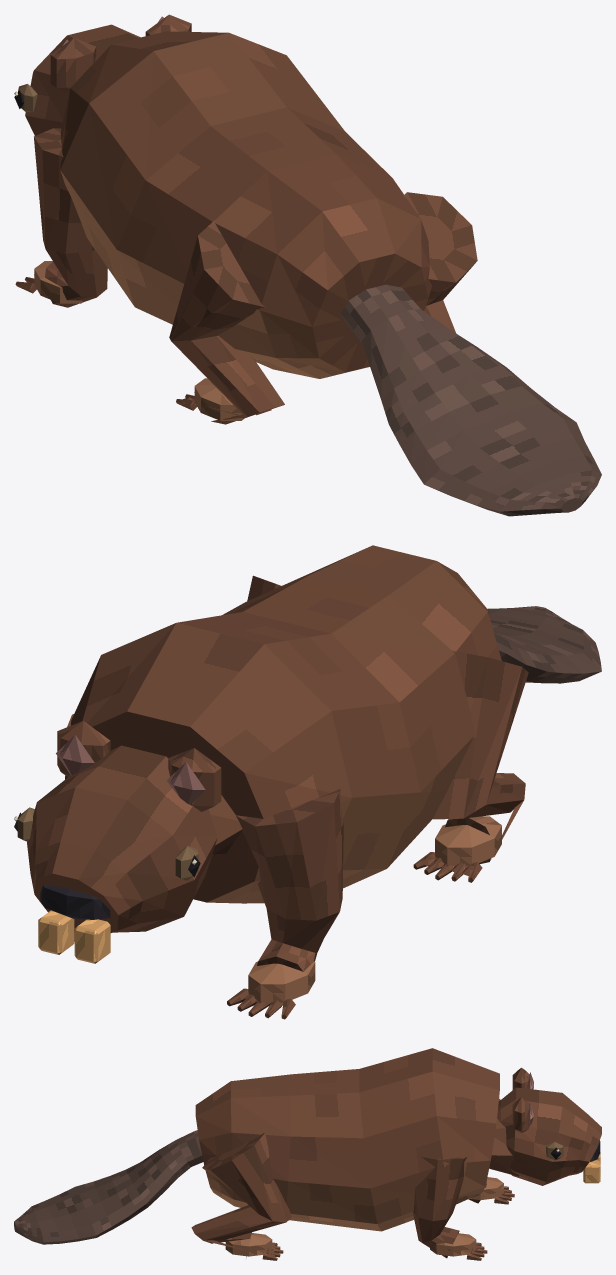
The model's file is mon_beaver_kit.glb.
The picture shows the model from 3 angles, top to bottom: view 1: azimuth 30°, elevation 25°; view 2: azimuth 150°, elevation 25°; view 3: azimuth 270°, elevation 25°; orthographic projection. The views are drawn at different scales.
Visible parts, largest first — view 1: closed_body; view 2: closed_body; view 3: closed_body.
Boxes of the visible parts, left/top/right/bottom form: closed_body: left=14, top=14, right=601, bottom=516; closed_body: left=14, top=545, right=601, bottom=1019; closed_body: left=14, top=1048, right=601, bottom=1260.
Size of the model in its own units: 0.1119 by 0.1157 by 0.3599.
Materials: 1 (1 with a texture image).
